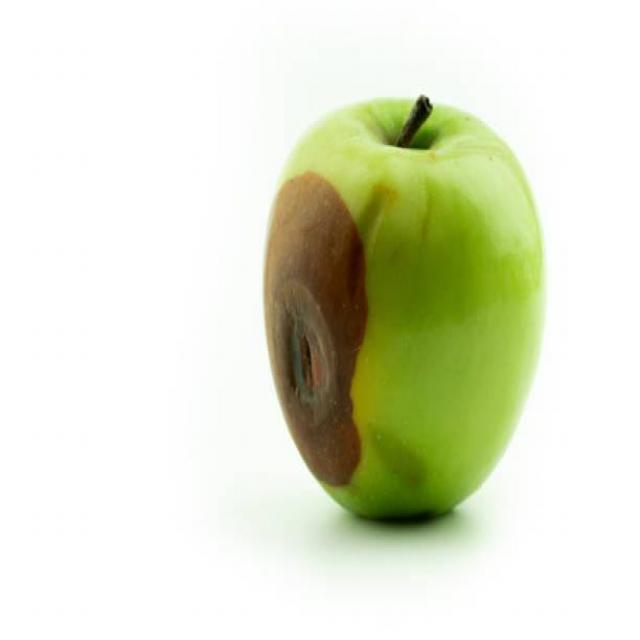Rotten: (257, 102, 536, 515)
